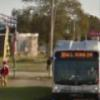buses: (46, 41, 100, 100)
